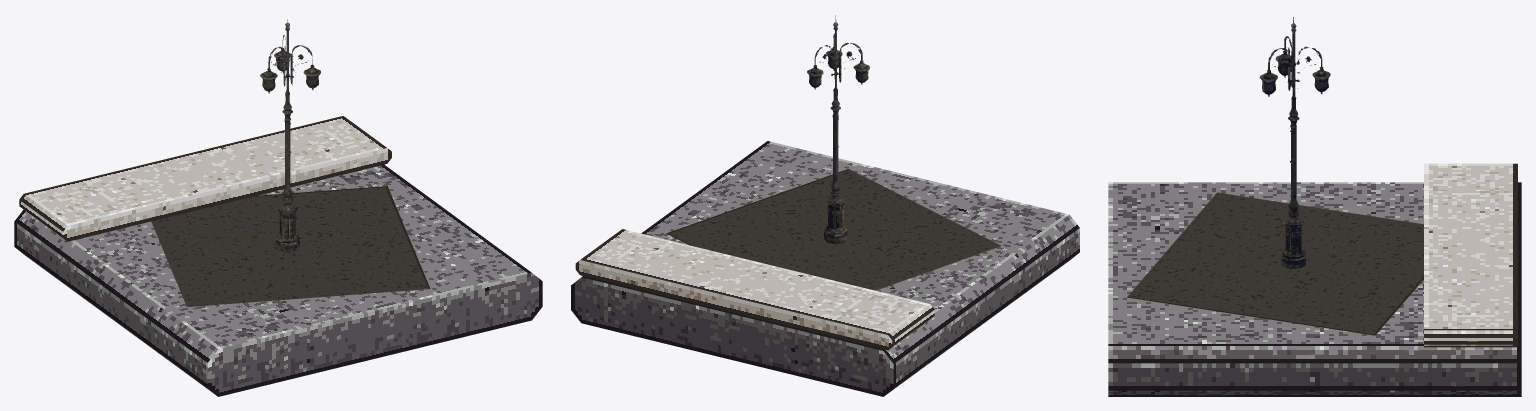
File: gaito.glb
The picture shows the model from 3 angles, left to right: view 1: azimuth 30°, elevation 25°; view 2: azimuth 150°, elevation 25°; view 3: azimuth 270°, elevation 25°; orthographic projection. The views are drawn at different scales.
Parts seen in each view (by area): view 1: base, model_m, kerb; view 2: base, model_m, kerb; view 3: base, model_m, kerb.
Boxes of the visible parts, box(x1,y1,x2,y2) form: base: box(14, 164, 542, 396); model_m: box(151, 19, 430, 306); kerb: box(19, 116, 391, 241); base: box(571, 141, 1079, 396); model_m: box(666, 15, 1001, 290); kerb: box(575, 229, 934, 350); base: box(1108, 182, 1521, 396); model_m: box(1127, 17, 1423, 335); kerb: box(1424, 163, 1517, 347).
Bounding box in the file's own units: 22 × 17.67 × 22.
Materials: 2 (2 with a texture image).
